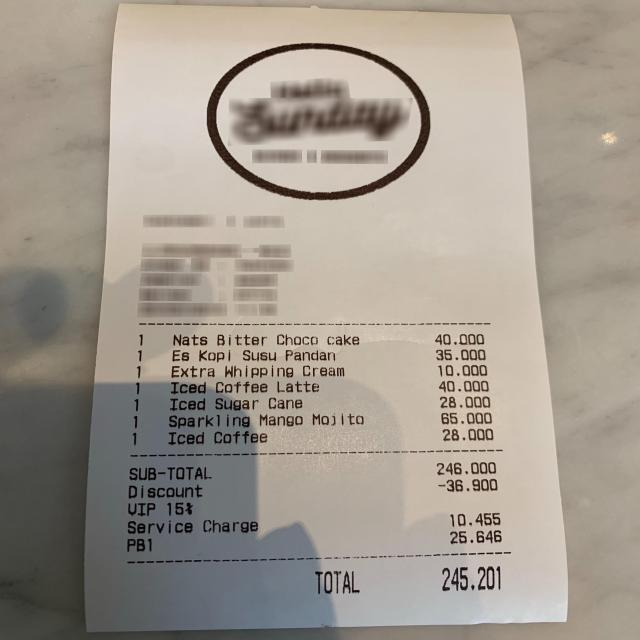kertas: (85, 4, 567, 631)
